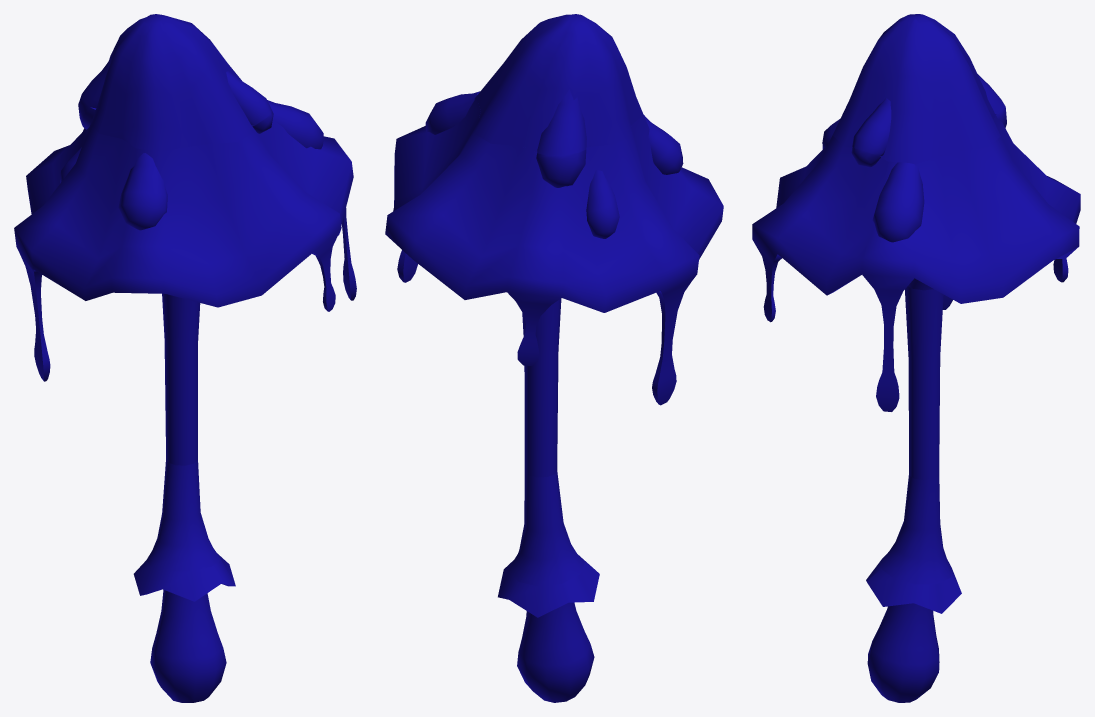
File: SM_Cut_WaterMushroom_01.fbx
3 views of the same model, side by side, from view 1: azimuth 30°, elevation 25°; view 2: azimuth 150°, elevation 25°; view 3: azimuth 270°, elevation 25° (orthographic). The views are drawn at different scales.
Parts seen in each view (by area): view 1: SM_Piece_004, SM_Piece_003, SM_Piece_000, SM_Piece_002, SM_Piece_001; view 2: SM_Piece_004, SM_Piece_003, SM_Piece_000, SM_Piece_001, SM_Piece_002; view 3: SM_Piece_004, SM_Piece_003, SM_Piece_000, SM_Piece_002, SM_Piece_001.
Boxes of the visible parts, bbox=[...] form: SM_Piece_004: bbox=[14, 92, 356, 381]; SM_Piece_003: bbox=[82, 14, 271, 151]; SM_Piece_000: bbox=[133, 553, 235, 702]; SM_Piece_002: bbox=[162, 293, 200, 465]; SM_Piece_001: bbox=[146, 458, 220, 571]; SM_Piece_004: bbox=[385, 91, 723, 405]; SM_Piece_003: bbox=[474, 14, 643, 155]; SM_Piece_000: bbox=[498, 554, 599, 702]; SM_Piece_001: bbox=[509, 470, 584, 586]; SM_Piece_002: bbox=[522, 298, 561, 477]; SM_Piece_004: bbox=[752, 98, 1080, 411]; SM_Piece_003: bbox=[832, 14, 1004, 163]; SM_Piece_000: bbox=[866, 559, 961, 702]; SM_Piece_002: bbox=[905, 286, 943, 480]; SM_Piece_001: bbox=[881, 474, 951, 584].
Size of the model in its own units: 55.99 by 118 by 52.66.
